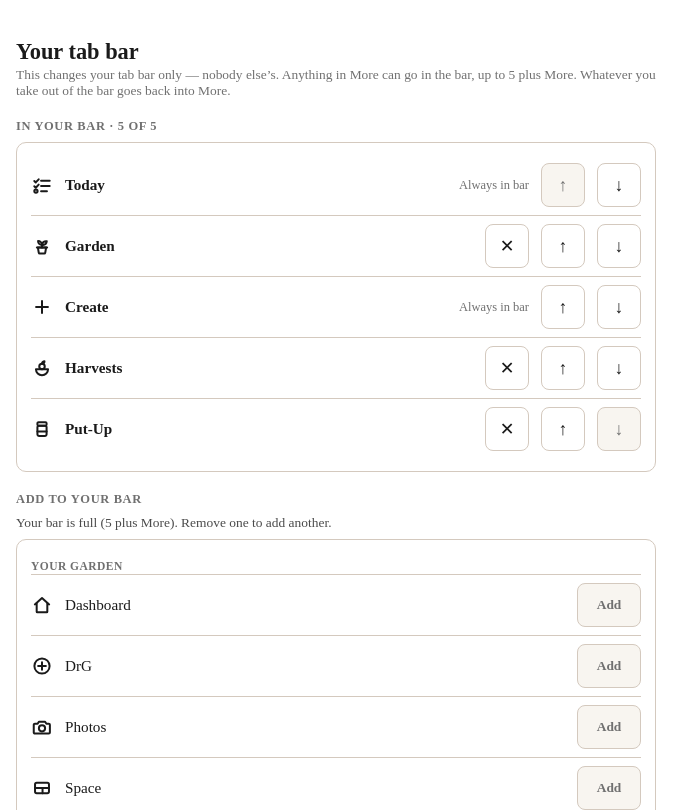
Scenario: THE STALE-SEED FIX — Save never writes a value nobody chose › Save is inert until something actually changed
This screenshot has width=673, height=810.
Click the button named "Move Today down". click: [619, 185]
box: top-left (597, 163), bottom-right (641, 207)
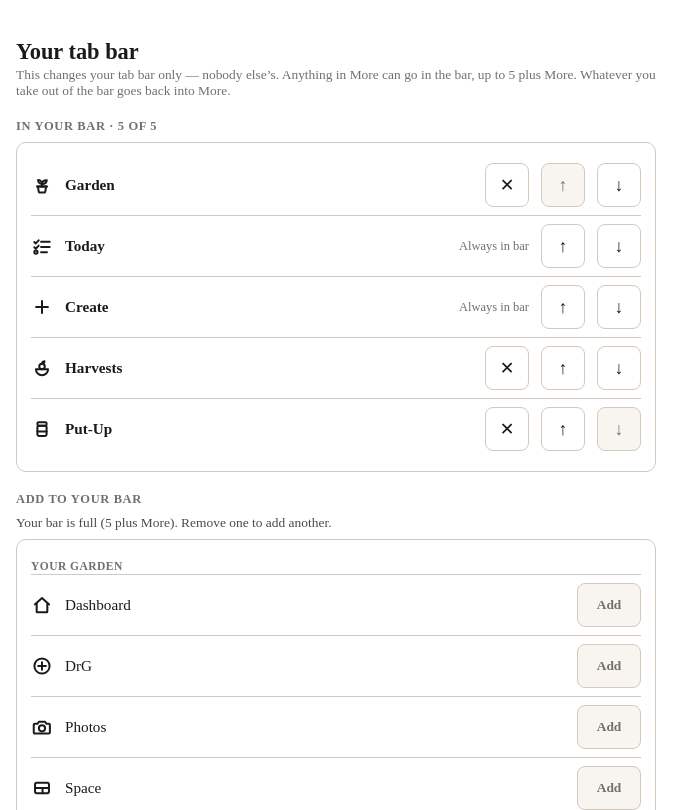
Click the button named "Move Today up". click: [563, 246]
box: top-left (541, 224), bottom-right (585, 268)
(page scrolled)
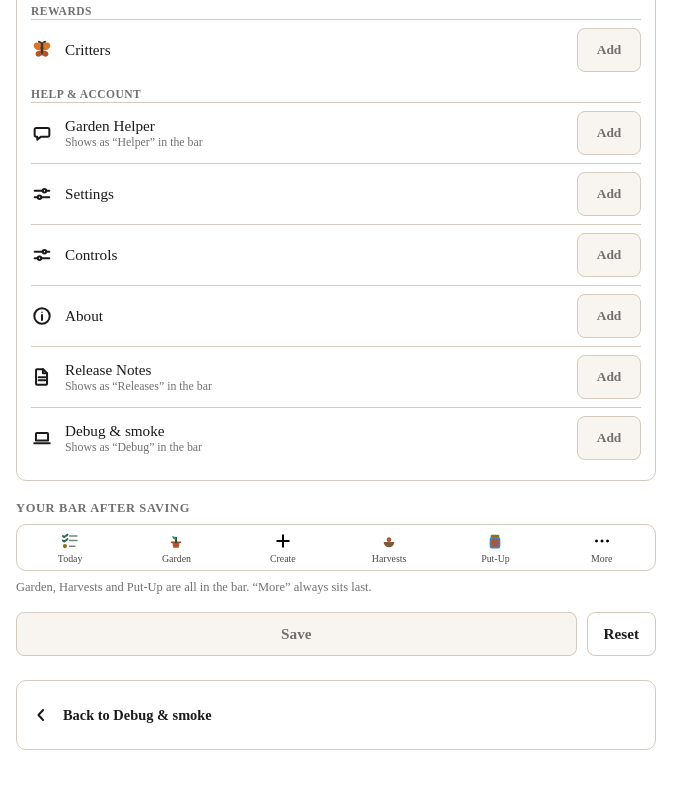
Now the button "Save" is disabled, box top-left (16, 612), bottom-right (577, 656)
